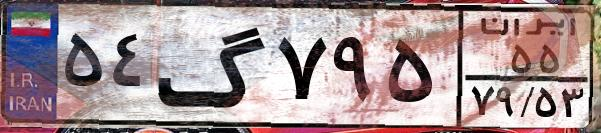3: (560, 70, 590, 125)
4: (110, 28, 156, 98)
5: (385, 28, 445, 110), (57, 26, 110, 100), (537, 27, 568, 80), (508, 27, 537, 80), (535, 70, 560, 125)
7: (270, 28, 330, 110), (470, 70, 495, 125)
9: (330, 28, 385, 110), (495, 70, 520, 125)
گ: (156, 12, 270, 120)
